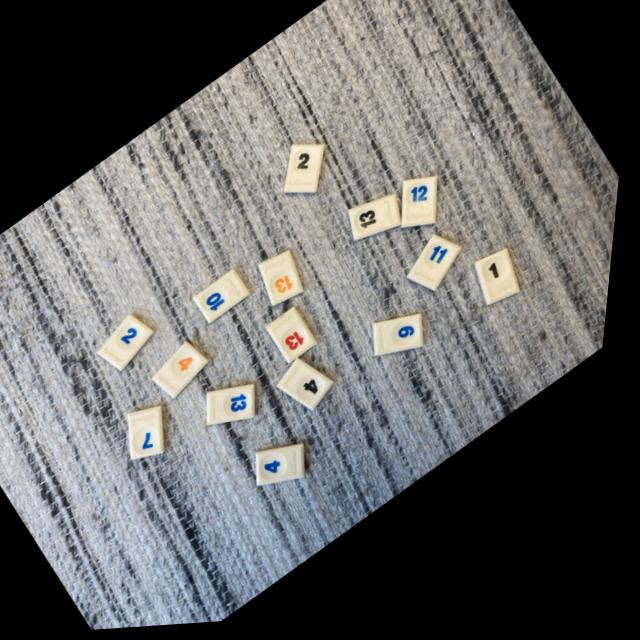black_1: (481, 256, 526, 312)
black_13: (353, 199, 406, 245)
black_2: (288, 147, 327, 197)
black_4: (286, 363, 342, 414)
blue_10: (200, 272, 256, 326)
blue_11: (414, 239, 467, 296)
blue_12: (406, 181, 441, 233)
blue_13: (214, 387, 263, 428)
blue_2: (105, 316, 160, 372)
blue_4: (265, 448, 315, 490)
blue_6: (379, 319, 431, 361)
blue_7: (137, 408, 172, 461)
orange_13: (264, 254, 310, 309)
orange_4: (161, 344, 215, 400)
red_13: (274, 311, 324, 367)
